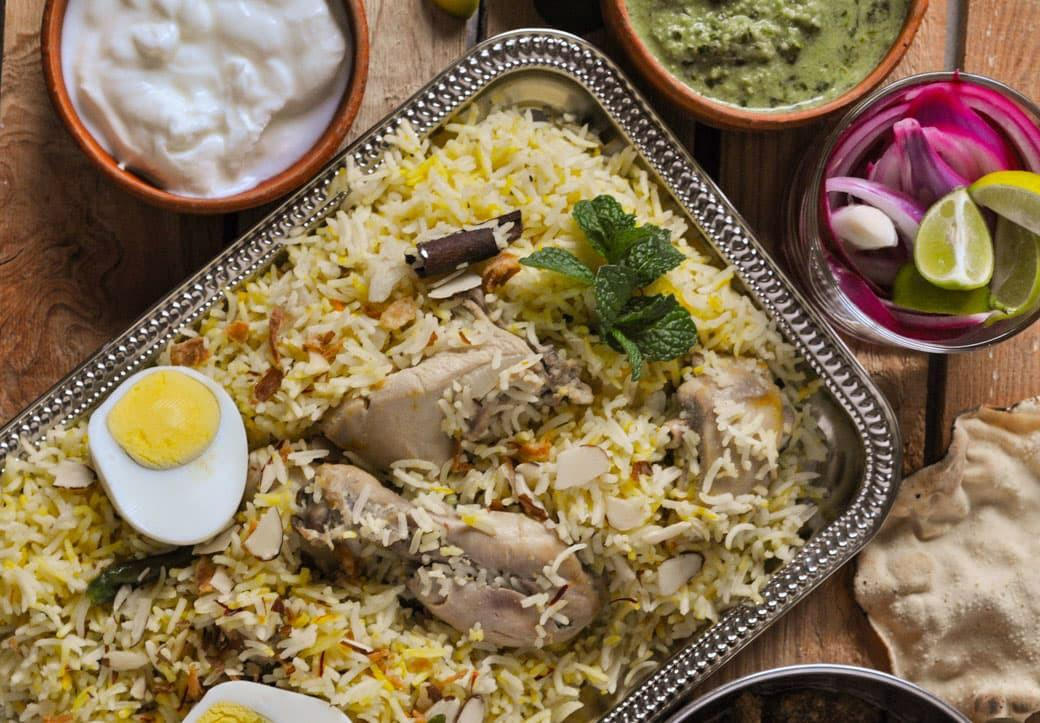Biryani: (0, 105, 829, 723)
